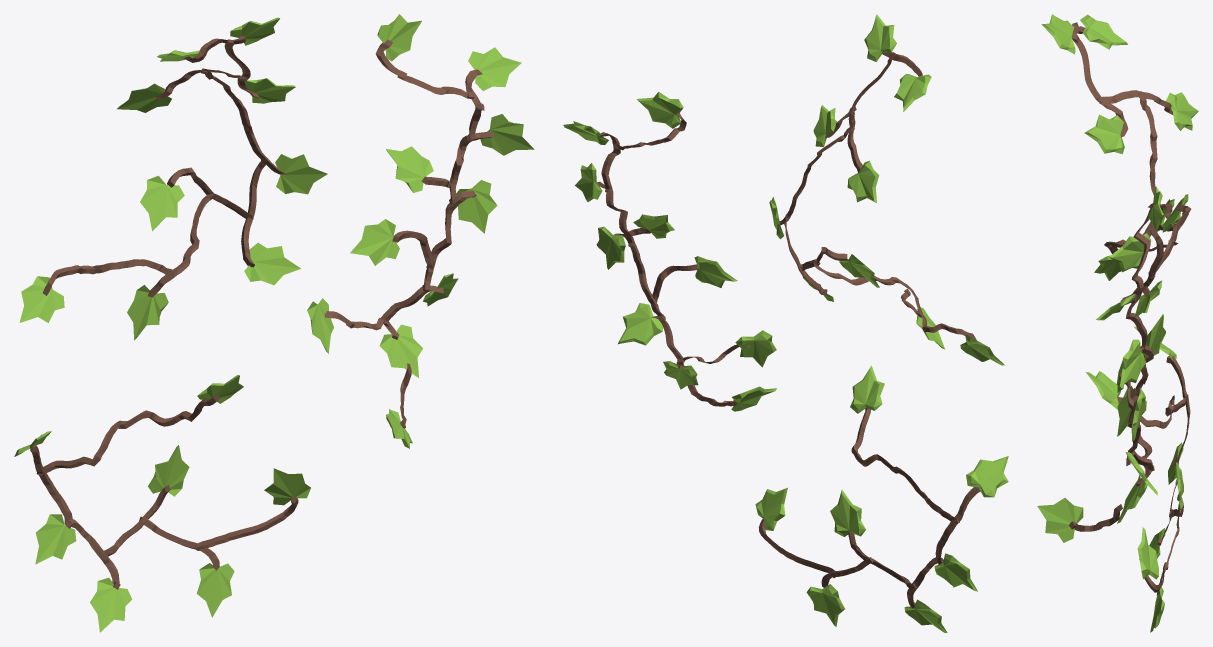
The model's file is Ivy2.fbx.
3 renders of one model, left to right at view 1: azimuth 30°, elevation 25°; view 2: azimuth 150°, elevation 25°; view 3: azimuth 270°, elevation 25°, orthographic. The views are drawn at different scales.
Visible parts, largest first — view 1: model; view 2: model; view 3: model.
Part boxes in pixels (bbox=[...]): model: bbox=[14, 14, 534, 632]; model: bbox=[563, 14, 1008, 632]; model: bbox=[1037, 14, 1198, 632].
Bounding box in the file's own units: 138 × 169 × 40.27.
